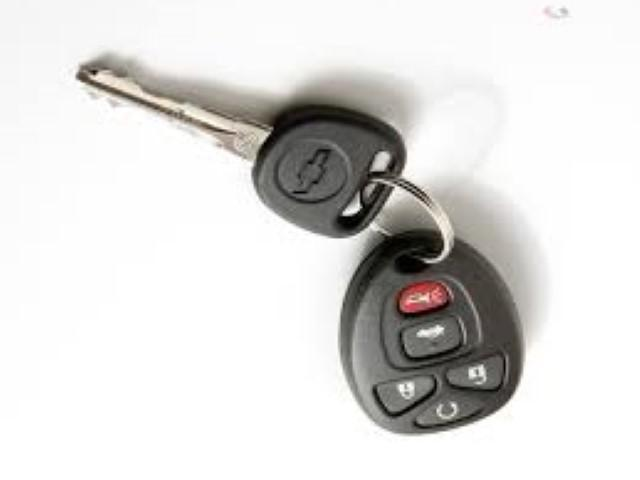key: (80, 66, 408, 408)
